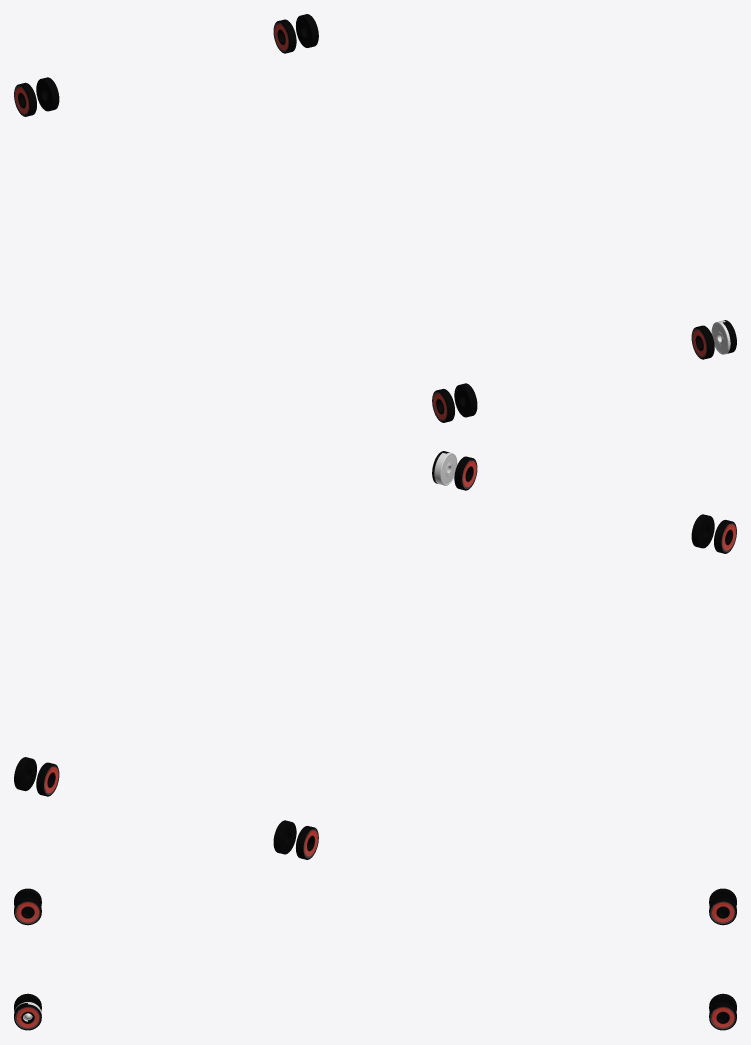
Rendered from bearings.glb.
The picture shows the model from 3 angles, top to bottom: view 1: azimuth 30°, elevation 25°; view 2: azimuth 150°, elevation 25°; view 3: azimuth 270°, elevation 25°; orthographic projection. The views are drawn at different scales.
Visible parts, largest first — view 1: bearings; view 2: bearings; view 3: bearings, bearings.002.
Part boxes in pixels (bbox=[...]): bearings: bbox=[14, 14, 714, 422]; bearings: bbox=[14, 456, 736, 859]; bearings: bbox=[14, 888, 736, 1030]; bearings.002: bbox=[14, 1003, 41, 1030].
Size of the model in its own units: 1.6 by 0.1607 by 4.17.
4 materials, 1 textured.
